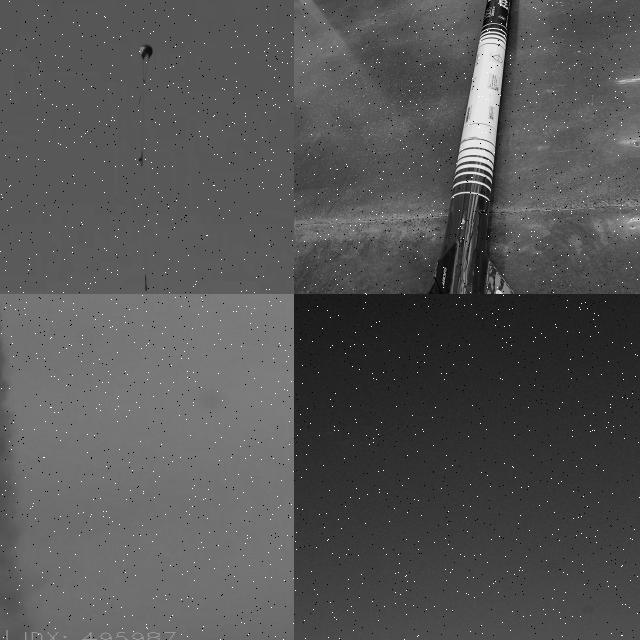Rocket: (426, 0, 516, 294), (144, 274, 148, 292)
